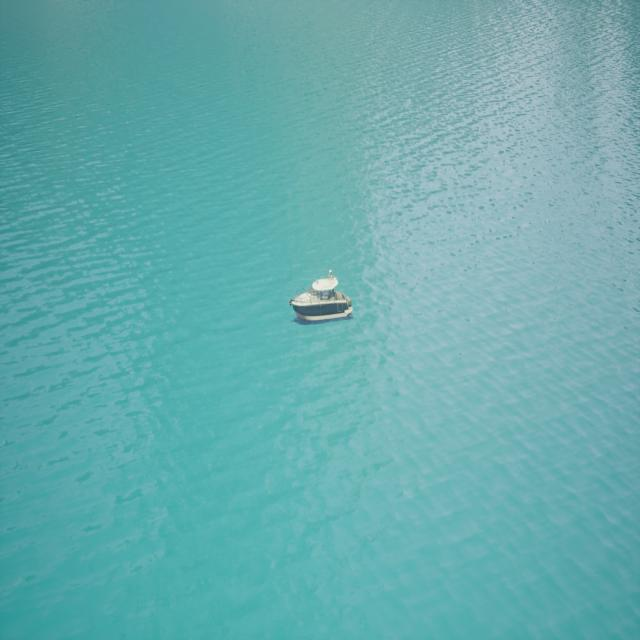ship: (288, 268, 352, 322)
